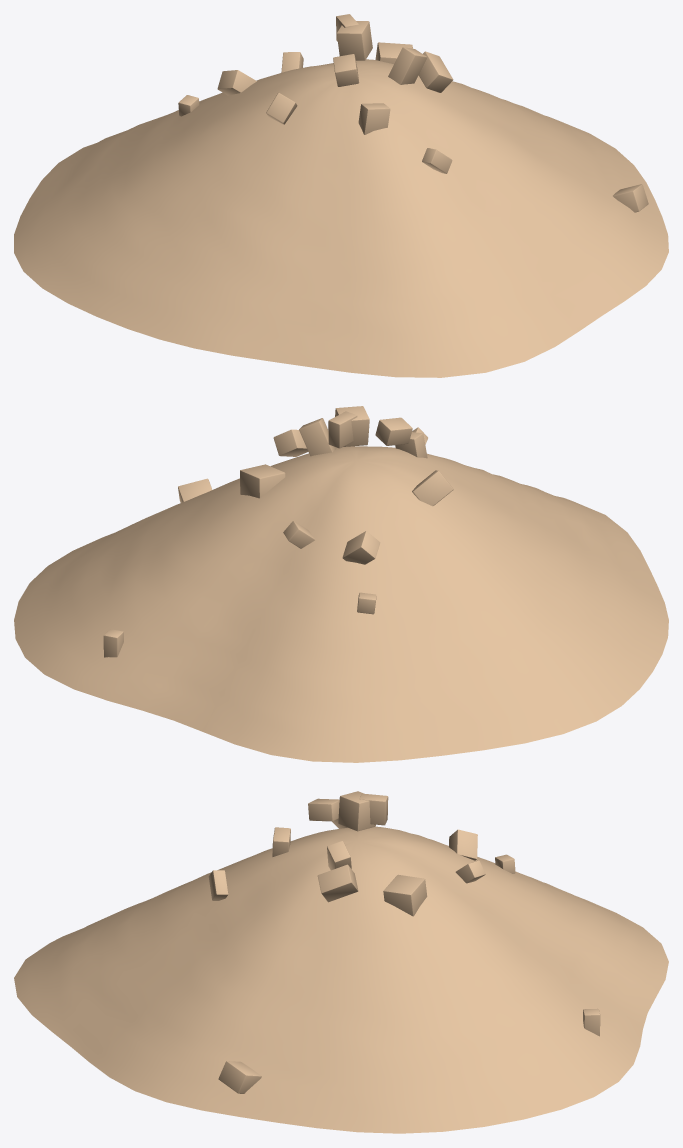
File: TER-SOL-003.glb
3 renders of one model, top to bottom at view 1: azimuth 30°, elevation 25°; view 2: azimuth 150°, elevation 25°; view 3: azimuth 270°, elevation 25°, orthographic. The views are drawn at different scales.
Visible parts, largest first — view 1: TER-SOL-003_monte, TER-SOL-003_caco12, TER-SOL-003_caco0, TER-SOL-003_caco3, TER-SOL-003_caco4, TER-SOL-003_caco8, TER-SOL-003_caco6, TER-SOL-003_caco9, TER-SOL-003_caco13; view 2: TER-SOL-003_monte, TER-SOL-003_caco5, TER-SOL-003_caco0, TER-SOL-003_caco6, TER-SOL-003_caco13, TER-SOL-003_caco8, TER-SOL-003_caco7, TER-SOL-003_caco12, TER-SOL-003_caco3, TER-SOL-003_caco10; view 3: TER-SOL-003_monte, TER-SOL-003_caco5, TER-SOL-003_caco12, TER-SOL-003_caco3, TER-SOL-003_caco9, TER-SOL-003_caco6, TER-SOL-003_caco8, TER-SOL-003_caco7, TER-SOL-003_caco0, TER-SOL-003_caco11.
Part boxes in pixels (x1=…): TER-SOL-003_monte: x1=14, y1=59, x2=668, y2=377; TER-SOL-003_caco12: x1=337, y1=21, x2=372, y2=60; TER-SOL-003_caco0: x1=388, y1=47, x2=426, y2=84; TER-SOL-003_caco3: x1=418, y1=51, x2=453, y2=92; TER-SOL-003_caco4: x1=358, y1=103, x2=390, y2=134; TER-SOL-003_caco8: x1=333, y1=54, x2=359, y2=86; TER-SOL-003_caco6: x1=217, y1=70, x2=256, y2=95; TER-SOL-003_caco9: x1=613, y1=184, x2=648, y2=212; TER-SOL-003_caco13: x1=266, y1=92, x2=297, y2=124; TER-SOL-003_monte: x1=14, y1=446, x2=668, y2=762; TER-SOL-003_caco5: x1=240, y1=464, x2=285, y2=498; TER-SOL-003_caco0: x1=299, y1=418, x2=336, y2=456; TER-SOL-003_caco6: x1=342, y1=531, x2=380, y2=564; TER-SOL-003_caco13: x1=412, y1=470, x2=453, y2=506; TER-SOL-003_caco8: x1=375, y1=417, x2=412, y2=445; TER-SOL-003_caco7: x1=328, y1=411, x2=357, y2=448; TER-SOL-003_caco12: x1=335, y1=406, x2=369, y2=446; TER-SOL-003_caco3: x1=273, y1=429, x2=308, y2=456; TER-SOL-003_caco10: x1=283, y1=521, x2=315, y2=548; TER-SOL-003_monte: x1=14, y1=826, x2=668, y2=1133; TER-SOL-003_caco5: x1=383, y1=874, x2=427, y2=916; TER-SOL-003_caco12: x1=338, y1=791, x2=375, y2=831; TER-SOL-003_caco3: x1=317, y1=864, x2=358, y2=902; TER-SOL-003_caco9: x1=218, y1=1061, x2=261, y2=1093; TER-SOL-003_caco6: x1=449, y1=829, x2=477, y2=860; TER-SOL-003_caco8: x1=308, y1=798, x2=339, y2=821; TER-SOL-003_caco7: x1=359, y1=793, x2=388, y2=825; TER-SOL-003_caco0: x1=327, y1=841, x2=351, y2=870; TER-SOL-003_caco11: x1=208, y1=870, x2=228, y2=900.
Bounding box in the file's own units: 1.83 × 0.6328 × 1.85.
